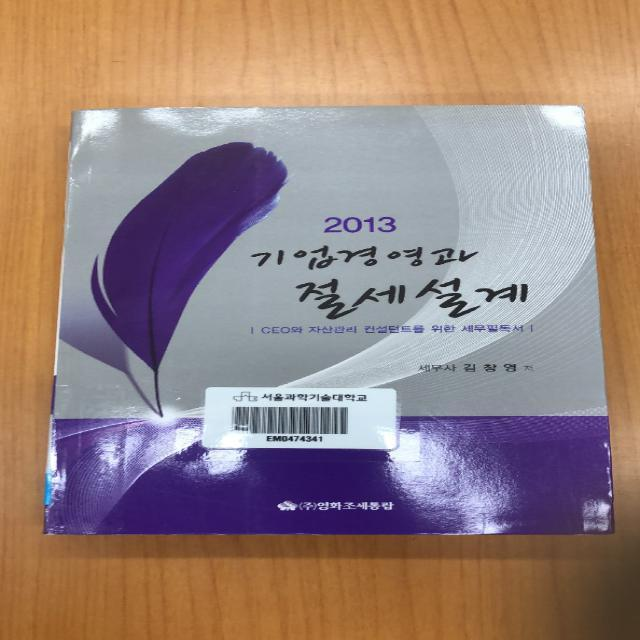Wornout: (413, 528, 484, 541), (43, 525, 109, 538), (287, 527, 331, 540), (574, 101, 591, 124)
